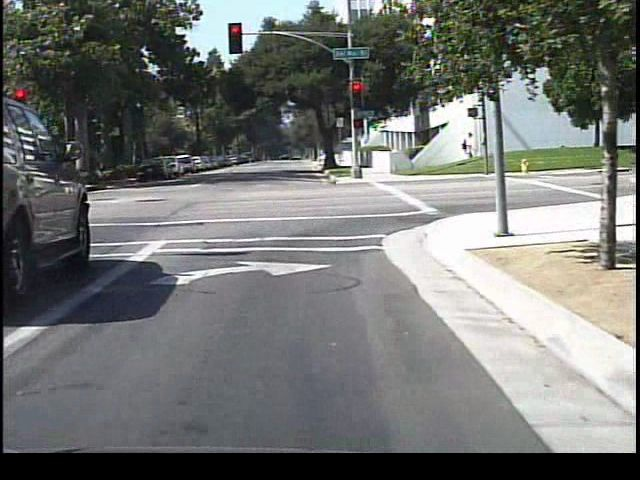person: (455, 128, 479, 173)
